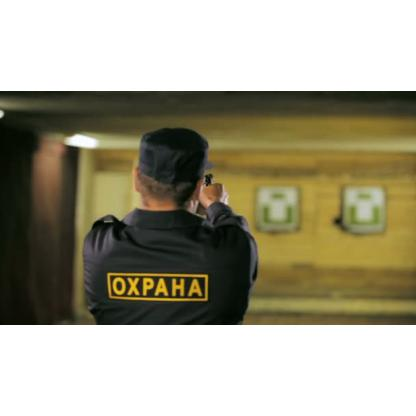gun: (204, 171, 216, 204)
